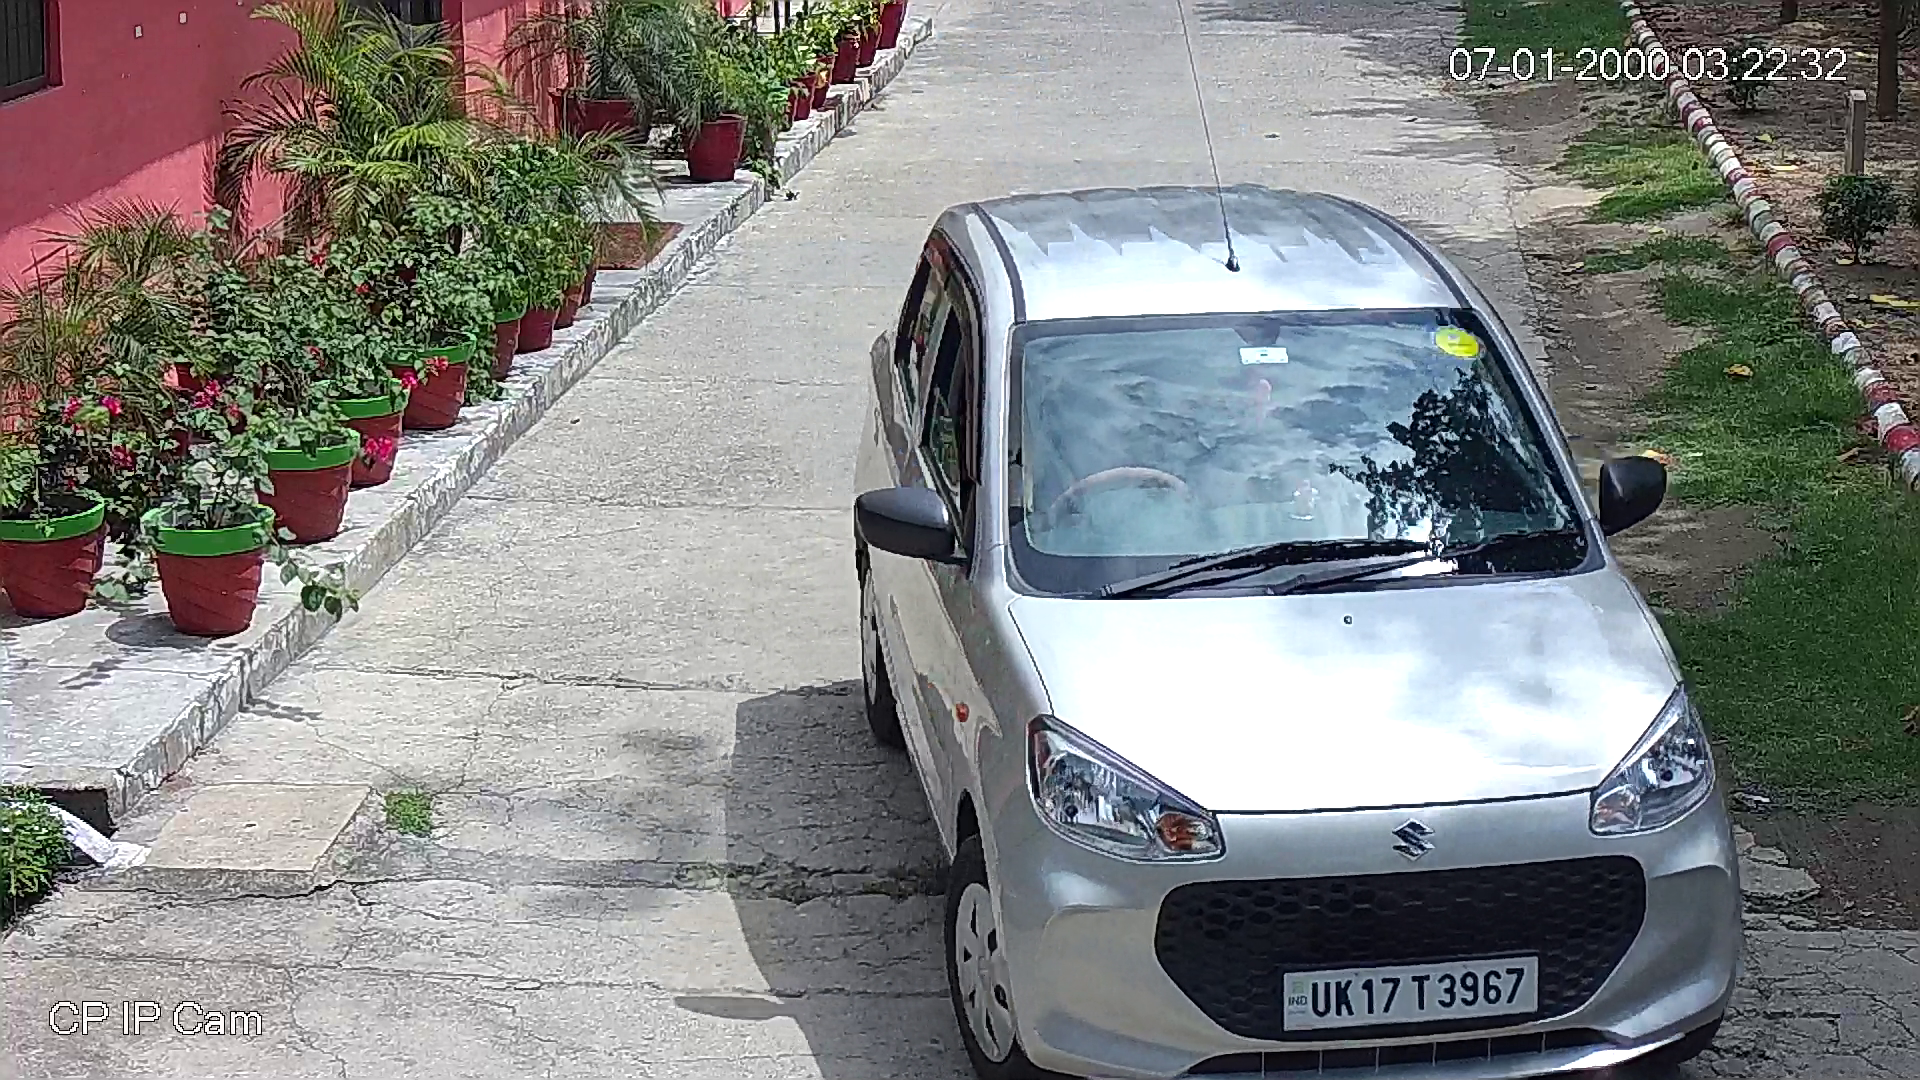plate: (1276, 949, 1544, 1032)
